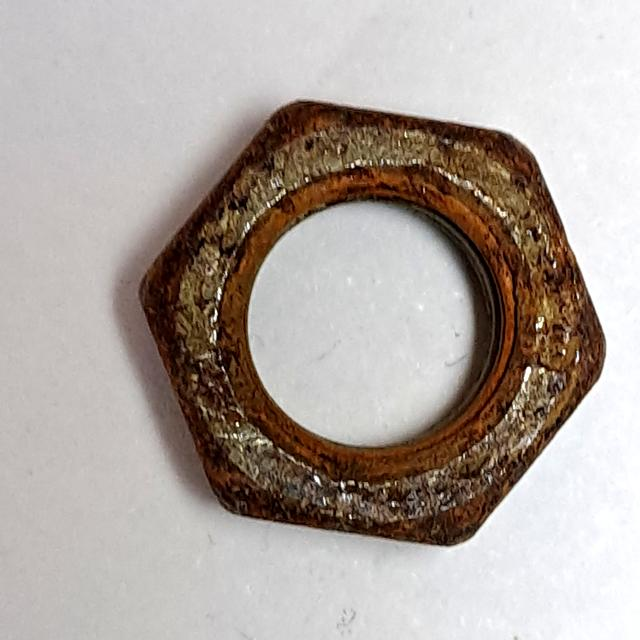Rust: (130, 92, 614, 559)
